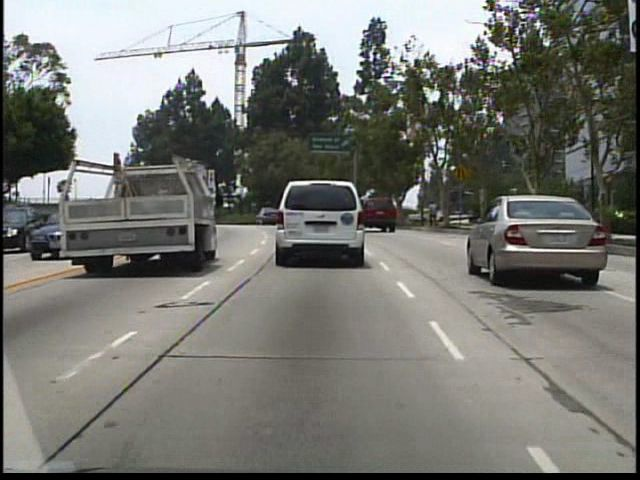person: (427, 195, 441, 229)
